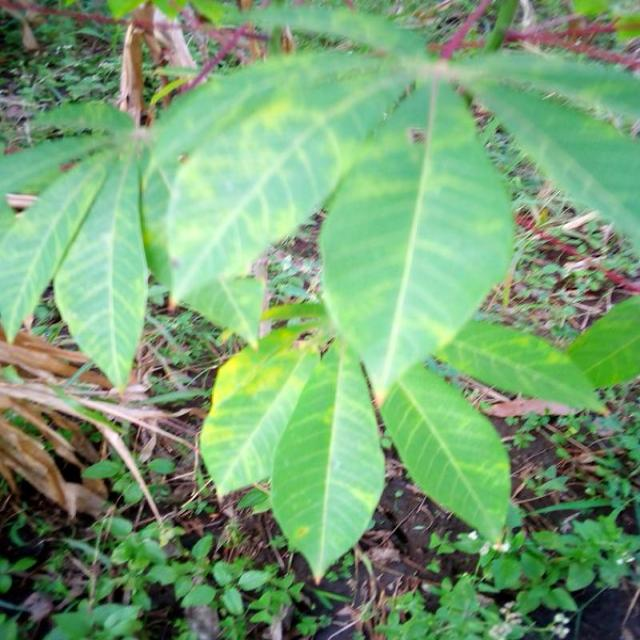cassava leaf: (1, 14, 640, 581), (141, 46, 416, 348), (318, 70, 516, 404), (269, 336, 386, 583), (380, 360, 513, 545), (198, 323, 322, 500)
